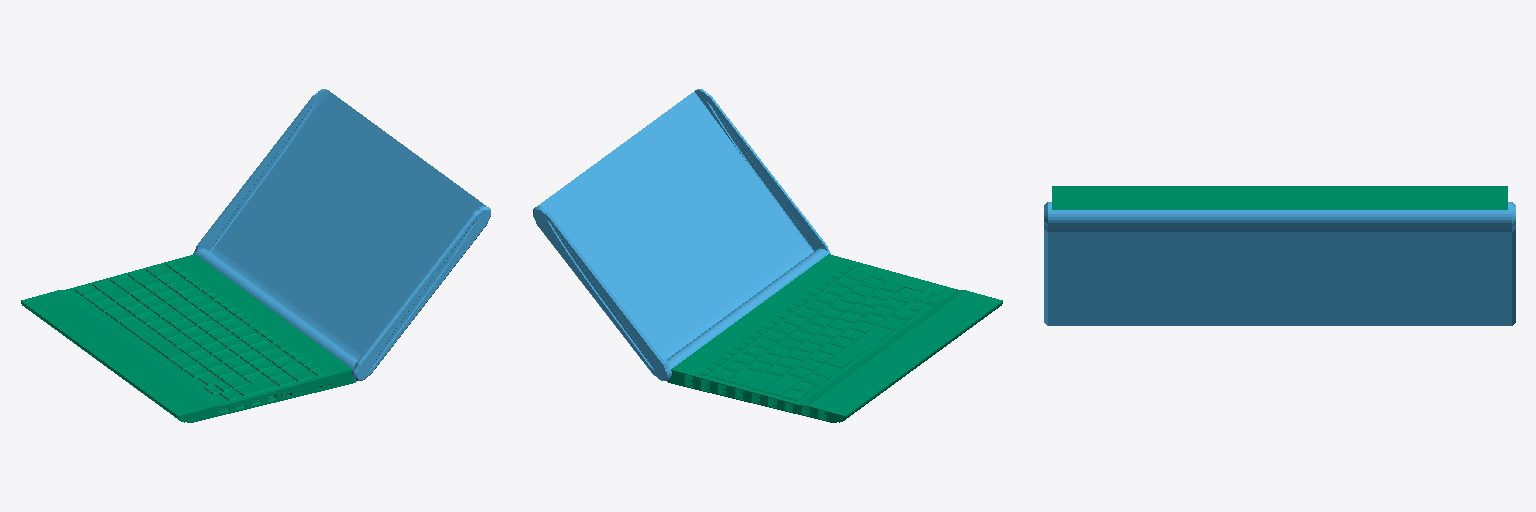
The robot description file, URDF, robot "partnet_4c7814676c42d67b902e12fe4da5924d":
<?xml version="1.0" ?>
<robot name="partnet_4c7814676c42d67b902e12fe4da5924d">
	<link name="base"/>
	<link name="link_0">
		<visual name="screen-7">
			<origin xyz="-0.685567 0.15 0.017779051745635082"/>
			<geometry>
				<mesh filename="textured_objs/original-7.obj"/>
			</geometry>
		</visual>
		<visual name="screen_frame-8">
			<origin xyz="-0.685567 0.15 0.017779051745635082"/>
			<geometry>
				<mesh filename="textured_objs/original-15.obj"/>
			</geometry>
		</visual>
		<visual name="screen_frame-8">
			<origin xyz="-0.685567 0.15 0.017779051745635082"/>
			<geometry>
				<mesh filename="textured_objs/original-18.obj"/>
			</geometry>
		</visual>
		<visual name="screen_frame-8">
			<origin xyz="-0.685567 0.15 0.017779051745635082"/>
			<geometry>
				<mesh filename="textured_objs/original-17.obj"/>
			</geometry>
		</visual>
		<visual name="screen_frame-8">
			<origin xyz="-0.685567 0.15 0.017779051745635082"/>
			<geometry>
				<mesh filename="textured_objs/original-6.obj"/>
			</geometry>
		</visual>
		<visual name="screen_frame-8">
			<origin xyz="-0.685567 0.15 0.017779051745635082"/>
			<geometry>
				<mesh filename="textured_objs/original-3.obj"/>
			</geometry>
		</visual>
		<visual name="screen_frame-8">
			<origin xyz="-0.685567 0.15 0.017779051745635082"/>
			<geometry>
				<mesh filename="textured_objs/original-4.obj"/>
			</geometry>
		</visual>
		<visual name="screen_frame-8">
			<origin xyz="-0.685567 0.15 0.017779051745635082"/>
			<geometry>
				<mesh filename="textured_objs/original-9.obj"/>
			</geometry>
		</visual>
		<visual name="screen_frame-8">
			<origin xyz="-0.685567 0.15 0.017779051745635082"/>
			<geometry>
				<mesh filename="textured_objs/original-13.obj"/>
			</geometry>
		</visual>
		<visual name="screen_frame-8">
			<origin xyz="-0.685567 0.15 0.017779051745635082"/>
			<geometry>
				<mesh filename="textured_objs/original-12.obj"/>
			</geometry>
		</visual>
		<visual name="screen_frame-8">
			<origin xyz="-0.685567 0.15 0.017779051745635082"/>
			<geometry>
				<mesh filename="textured_objs/original-19.obj"/>
			</geometry>
		</visual>
		<visual name="screen_frame-8">
			<origin xyz="-0.685567 0.15 0.017779051745635082"/>
			<geometry>
				<mesh filename="textured_objs/original-11.obj"/>
			</geometry>
		</visual>
		<visual name="shaft-4">
			<origin xyz="-0.685567 0.15 0.017779051745635082"/>
			<geometry>
				<mesh filename="textured_objs/new-2.obj"/>
			</geometry>
		</visual>
		<collision>
			<origin xyz="-0.685567 0.15 0.017779051745635082"/>
			<geometry>
				<mesh filename="textured_objs/original-7.obj"/>
			</geometry>
		</collision>
		<collision>
			<origin xyz="-0.685567 0.15 0.017779051745635082"/>
			<geometry>
				<mesh filename="textured_objs/original-15.obj"/>
			</geometry>
		</collision>
		<collision>
			<origin xyz="-0.685567 0.15 0.017779051745635082"/>
			<geometry>
				<mesh filename="textured_objs/original-18.obj"/>
			</geometry>
		</collision>
		<collision>
			<origin xyz="-0.685567 0.15 0.017779051745635082"/>
			<geometry>
				<mesh filename="textured_objs/original-17.obj"/>
			</geometry>
		</collision>
		<collision>
			<origin xyz="-0.685567 0.15 0.017779051745635082"/>
			<geometry>
				<mesh filename="textured_objs/original-6.obj"/>
			</geometry>
		</collision>
		<collision>
			<origin xyz="-0.685567 0.15 0.017779051745635082"/>
			<geometry>
				<mesh filename="textured_objs/original-3.obj"/>
			</geometry>
		</collision>
		<collision>
			<origin xyz="-0.685567 0.15 0.017779051745635082"/>
			<geometry>
				<mesh filename="textured_objs/original-4.obj"/>
			</geometry>
		</collision>
		<collision>
			<origin xyz="-0.685567 0.15 0.017779051745635082"/>
			<geometry>
				<mesh filename="textured_objs/original-9.obj"/>
			</geometry>
		</collision>
		<collision>
			<origin xyz="-0.685567 0.15 0.017779051745635082"/>
			<geometry>
				<mesh filename="textured_objs/original-13.obj"/>
			</geometry>
		</collision>
		<collision>
			<origin xyz="-0.685567 0.15 0.017779051745635082"/>
			<geometry>
				<mesh filename="textured_objs/original-12.obj"/>
			</geometry>
		</collision>
		<collision>
			<origin xyz="-0.685567 0.15 0.017779051745635082"/>
			<geometry>
				<mesh filename="textured_objs/original-19.obj"/>
			</geometry>
		</collision>
		<collision>
			<origin xyz="-0.685567 0.15 0.017779051745635082"/>
			<geometry>
				<mesh filename="textured_objs/original-11.obj"/>
			</geometry>
		</collision>
		<collision>
			<origin xyz="-0.685567 0.15 0.017779051745635082"/>
			<geometry>
				<mesh filename="textured_objs/new-2.obj"/>
			</geometry>
		</collision>
	</link>
	<joint name="joint_0" type="revolute">
		<origin xyz="0.685567 -0.15 -0.017779051745635082"/>
		<axis xyz="-1 0 0"/>
		<child link="link_0"/>
		<parent link="link_1"/>
		<limit lower="-2.356194490192345" upper="-0.0"/>
	</joint>
	<link name="link_1">
		<visual name="keyboard-5">
			<origin xyz="0 0 0"/>
			<geometry>
				<mesh filename="textured_objs/new-0.obj"/>
			</geometry>
		</visual>
		<visual name="base_frame-6">
			<origin xyz="0 0 0"/>
			<geometry>
				<mesh filename="textured_objs/new-3.obj"/>
			</geometry>
		</visual>
		<collision>
			<origin xyz="0 0 0"/>
			<geometry>
				<mesh filename="textured_objs/new-0.obj"/>
			</geometry>
		</collision>
		<collision>
			<origin xyz="0 0 0"/>
			<geometry>
				<mesh filename="textured_objs/new-3.obj"/>
			</geometry>
		</collision>
	</link>
	<joint name="joint_1" type="fixed">
		<origin rpy="1.570796326794897 0 -1.570796326794897" xyz="0 0 0"/>
		<child link="link_1"/>
		<parent link="base"/>
	</joint>
</robot>

--- Render facts (derived) ---
3 views of the same robot in one strip: view 1: azimuth 30°, elevation 25°; view 2: azimuth 150°, elevation 25°; view 3: azimuth 270°, elevation 25° (orthographic).
Robot: partnet_4c7814676c42d67b902e12fe4da5924d — 3 links, 2 joints (1 revolute, 1 fixed); root link base; default pose: all joints at 0.
Links seen in each view (by area): view 1: link_0, link_1; view 2: link_0, link_1; view 3: link_0, link_1.
Link boxes in pixels (x1=…): link_0: x1=193, y1=89, x2=490, y2=382; link_1: x1=21, y1=254, x2=354, y2=422; link_0: x1=533, y1=89, x2=830, y2=380; link_1: x1=667, y1=254, x2=1002, y2=422; link_0: x1=1044, y1=202, x2=1515, y2=325; link_1: x1=1052, y1=186, x2=1507, y2=209.
Size in the robot's own frame: 1.46 by 1.33 by 0.6558 metres.
Meshes: 15 distinct files referenced, 15 mesh visuals loaded (15 OBJ).
